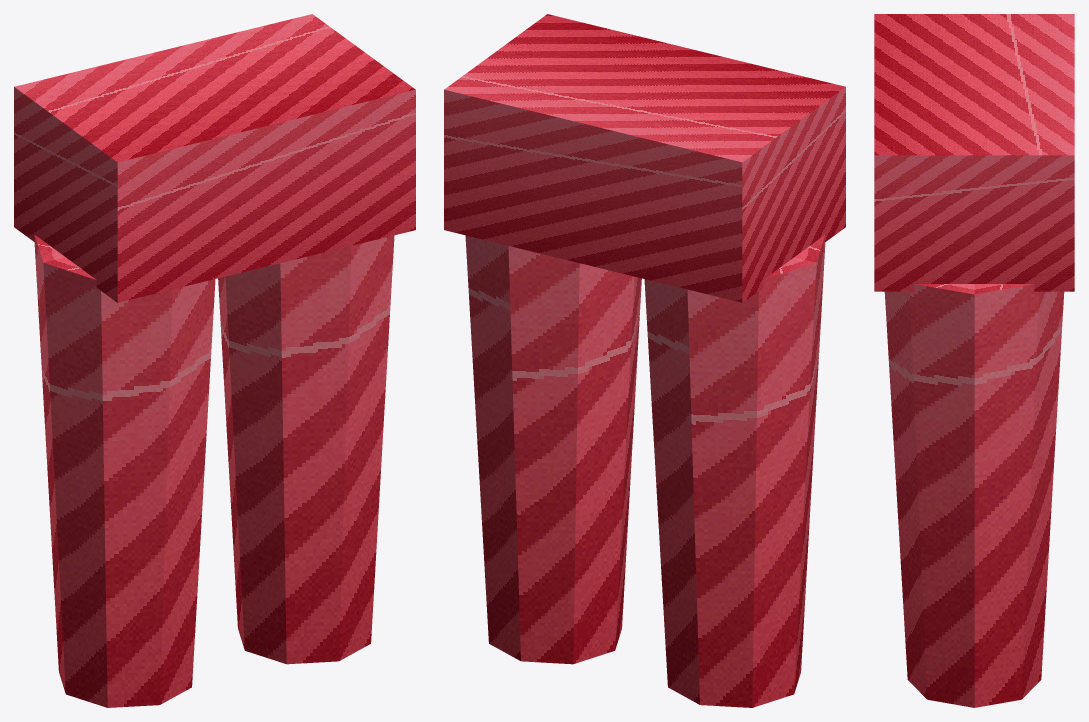
The model's file is calcas_de_rubi.glb.
The picture shows the model from 3 angles, left to right: view 1: azimuth 30°, elevation 25°; view 2: azimuth 150°, elevation 25°; view 3: azimuth 270°, elevation 25°; orthographic projection. The views are drawn at different scales.
Parts seen in each view (by area): view 1: calcas_de_rubi; view 2: calcas_de_rubi; view 3: calcas_de_rubi.
Boxes of the visible parts, box(x1,y1,x2,y2) form: calcas_de_rubi: box(14, 14, 415, 707); calcas_de_rubi: box(444, 14, 845, 707); calcas_de_rubi: box(874, 14, 1074, 707).
Size of the model in its own units: 0.46 by 0.73 by 0.24.
Materials: 1 (1 with a texture image).
